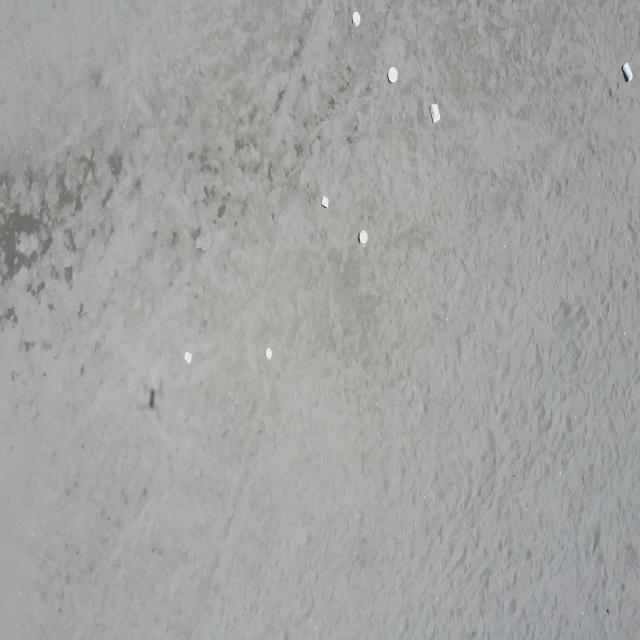take-away-containers: (430, 102, 441, 124), (388, 66, 398, 84), (359, 229, 368, 247), (352, 10, 361, 28), (321, 195, 329, 209), (184, 352, 192, 364), (265, 348, 273, 360)
takeaway-cup: (622, 62, 634, 82)
